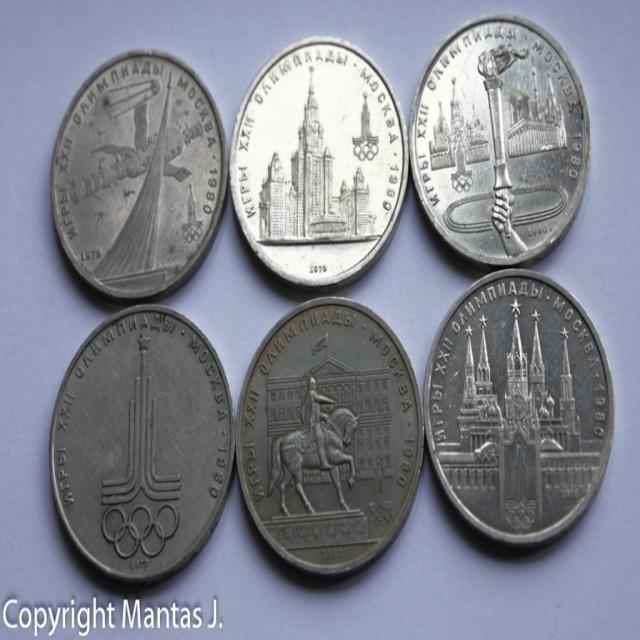Coin: (236, 297, 424, 582), (424, 272, 612, 549), (49, 304, 232, 586), (227, 32, 408, 294), (412, 9, 594, 268), (48, 45, 228, 297)
